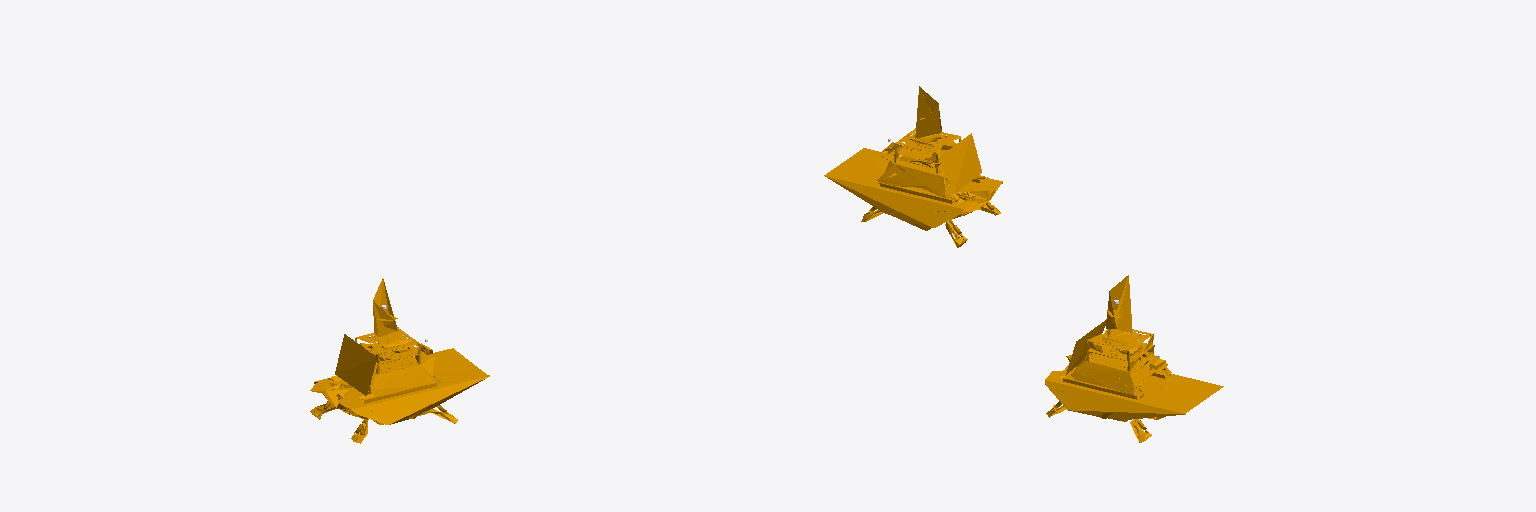
The robot description file, URDF, robot "scout_mini":
<?xml version="1.0" encoding="utf-8"?>
<!-- =================================================================================== -->
<!-- |    This document was autogenerated by xacro from mini.xacro                     | -->
<!-- |    EDITING THIS FILE BY HAND IS NOT RECOMMENDED                                 | -->
<!-- =================================================================================== -->
<robot name="scout_mini">
  <!--    <xacro:property name="track" value="0.3426" />
    <xacro:property name="wheelbase" value="0.3181"/>
    <xacro:property name="wheel_vertical_offset" value="-0.160000047342231" />-->
  <!-- Base link -->
  <link name="base_link">
    <visual>
      <origin rpy="1.57 0 -1.57" xyz="0 0 0.0"/>
      <geometry>
        <mesh filename="package://scout_description/meshes/scout_mini_base_link2.dae"/>
      </geometry>
    </visual>
    <collision>
      <origin rpy="1.57 0 -1.57" xyz="0 0 0"/>
      <geometry>
        <mesh filename="package://scout_description/meshes/scout_mini_base_link2.dae"/>
      </geometry>
    </collision>
  </link>
  <!-- <joint name="chassis_link_joint" type="fixed">
        <origin xyz="0 0 ${wheel_radius - wheel_vertical_offset}" rpy="0 0 0" />
        <parent link="base_link" />
        <child link="chassis_link" />
    </joint> -->
  <link name="inertial_link">
    <inertial>
      <mass value="60"/>
      <origin xyz="0.0 0.0 0.0"/>
      <inertia ixx="2.288641" ixy="0" ixz="0" iyy="5.103976" iyz="0" izz="3.431465"/>
    </inertial>
  </link>
  <joint name="inertial_joint" type="fixed">
    <origin rpy="0 0 0" xyz="0 0 0"/>
    <parent link="base_link"/>
    <child link="inertial_link"/>
  </joint>
  <!-- For testing, hang the robot up in the air -->
  <!-- <link name="world" />
    <joint name="world_to_base_link=" type="fixed">
        <origin xyz="0 0 0.5" rpy="0 0 0" />
        <parent link="world"/>
        <child link="base_link"/>
    </joint> -->
  <link name="front_left_wheel_link">

    <inertial>
      <mass value="3"/>
      <origin xyz="0 0 0"/>
      <inertia ixx="0.7171" ixy="0" ixz="0" iyy="0.7171" iyz="0" izz="0.1361"/>
      <!--<inertia ixx="0" ixy="0" ixz="0" iyy="0" iyz="0" izz="0" />-->
    </inertial>
    <visual>
      <origin rpy="0 0 0" xyz="0 0 0"/>
      <geometry>
        <mesh filename="package://scout_description/meshes/wheel.dae"/>
      </geometry>
    </visual>
    <collision>
      <origin rpy="0 0 0" xyz="0 0 0"/>
      <geometry>
        <mesh filename="package://scout_description/meshes/wheel.dae"/>
      </geometry>
    </collision>
  </link>
  <joint name="front_left_wheel" type="continuous">
    <!--<origin
                  xyz="0.14547 0.20835 -0.07424"
                  rpy="0 1.57 0" />-->
    <parent link="base_link"/>
    <child link="front_left_wheel_link"/>
    <origin rpy="-1.57 0 0" xyz="0.2319755 0.2082515 -0.100998"/>
    <axis rpy="0 0 0" xyz="0 0 -1"/>
  </joint>
  <link name="rear_left_wheel_link">

    <inertial>
      <mass value="3"/>
      <origin xyz="0 0 0"/>
      <inertia ixx="0.7171" ixy="0" ixz="0" iyy="0.7171" iyz="0" izz="0.1361"/>
      <!--<inertia ixx="0" ixy="0" ixz="0" iyy="0" iyz="0" izz="0" />-->
    </inertial>
    <visual>
      <origin rpy="0 0 0" xyz="0 0 0"/>
      <geometry>
        <mesh filename="package://scout_description/meshes/wheel.dae"/>
      </geometry>
    </visual>
    <collision>
      <origin rpy="0 0 0" xyz="0 0 0"/>
      <geometry>
        <mesh filename="package://scout_description/meshes/wheel.dae"/>
      </geometry>
    </collision>
  </link>
  <joint name="rear_left_wheel" type="continuous">
    <!--<origin
                  xyz="-0.17453 0.20835 -0.07424"
                  rpy="0 -1.57 0" />-->
    <parent link="base_link"/>
    <child link="rear_left_wheel_link"/>
    <origin rpy="-1.57 0 0" xyz="-0.2319755 0.2082515 -0.100998"/>
    <axis rpy="0 0 0" xyz="0 0 -1"/>
  </joint>
  <link name="front_right_wheel_link">

    <inertial>
      <mass value="3"/>
      <origin xyz="0 0 0"/>
      <inertia ixx="0.7171" ixy="0" ixz="0" iyy="0.7171" iyz="0" izz="0.1361"/>
      <!--<inertia ixx="0" ixy="0" ixz="0" iyy="0" iyz="0" izz="0" />-->
    </inertial>
    <visual>
      <origin rpy="0 0 0" xyz="0 0 0"/>
      <geometry>
        <mesh filename="package://scout_description/meshes/wheel.dae"/>
      </geometry>
    </visual>
    <collision>
      <origin rpy="0 0 0" xyz="0 0 0"/>
      <geometry>
        <mesh filename="package://scout_description/meshes/wheel.dae"/>
      </geometry>
    </collision>
  </link>
  <joint name="front_right_wheel" type="continuous">
    <!--<origin
                  xyz="-0.17453 -0.24424 -0.07424"
                  rpy="0 -1.57 0" />-->
    <parent link="base_link"/>
    <child link="front_right_wheel_link"/>
    <origin rpy="1.57 0 0" xyz="0.2319755 -0.2082515 -0.099998"/>
    <axis rpy="0 0 0" xyz="0 0 -1"/>
  </joint>
  <link name="rear_right_wheel_link">
    <!--<inertial>
        <mass value="3" />
            <origin
                    xyz="0.235244832119832 -0.0585653794466942 -0.206994929144493"
                    rpy="0 0 0" />
                    <inertia ixx="0.7171" ixy="0" ixz="0" iyy="0.1361" iyz="0" izz="0.7171" />
        </inertial>
        <visual>
            <origin xyz="0 0 0" rpy="0 0 0" />
            <geometry>
                <mesh filename="package://scout_description/meshes/wheel.dae" />
            </geometry>
        </visual>-->
    <inertial>
      <mass value="3"/>
      <origin xyz="0 0 0"/>
      <inertia ixx="0.7171" ixy="0" ixz="0" iyy="0.7171" iyz="0" izz="0.1361"/>
      <!--<inertia ixx="0" ixy="0" ixz="0" iyy="0" iyz="0" izz="0" />-->
    </inertial>
    <visual>
      <origin rpy="0 0 0" xyz="0 0 0"/>
      <geometry>
        <mesh filename="package://scout_description/meshes/wheel.dae"/>
      </geometry>
    </visual>
    <collision>
      <origin rpy="0 0 0" xyz="0 0 0"/>
      <geometry>
        <mesh filename="package://scout_description/meshes/wheel.dae"/>
      </geometry>
    </collision>
  </link>
  <joint name="rear_right_wheel" type="continuous">
    <!--<origin
                  xyz="0.19247 -0.24486 -0.073441"
                  rpy="-0 1.57 0" />-->
    <parent link="base_link"/>
    <child link="rear_right_wheel_link"/>
    <origin rpy="1.57 0 0" xyz="-0.2319755 -0.2082515 -0.099998"/>
    <axis rpy="0 0 0" xyz="0 0 -1"/>
  </joint>

  <!-- This file is a placeholder which is included by default from
       husky.urdf.xacro. If a robot is being customized and requires
       additional URDF, set the HUSKY_URDF_EXTRAS environment variable
       to the full path of the file you would like included. -->
  <!-- Additional definitions for simulation -->
  <!-- <gazebo reference="base_link">
        <material>Gazebo/Grey</material>
    </gazebo> -->
  <transmission name="front_right_wheel_trans" type="SimpleTransmission">
    <type>transmission_interface/SimpleTransmission</type>
    <actuator name="front_right_wheel_motor">
      <mechanicalReduction>1</mechanicalReduction>
    </actuator>
    <joint name="front_right_wheel">
      <hardwareInterface>hardware_interface/VelocityJointInterface</hardwareInterface>
    </joint>
  </transmission>
  <transmission name="front_left_wheel_trans" type="SimpleTransmission">
    <type>transmission_interface/SimpleTransmission</type>
    <actuator name="front_left_wheel_motor">
      <mechanicalReduction>1</mechanicalReduction>
    </actuator>
    <joint name="front_left_wheel">
      <hardwareInterface>hardware_interface/VelocityJointInterface</hardwareInterface>
    </joint>
  </transmission>
  <transmission name="rear_left_wheel_trans" type="SimpleTransmission">
    <type>transmission_interface/SimpleTransmission</type>
    <actuator name="rear_left_wheel_motor">
      <mechanicalReduction>1</mechanicalReduction>
    </actuator>
    <joint name="rear_left_wheel">
      <hardwareInterface>hardware_interface/VelocityJointInterface</hardwareInterface>
    </joint>
  </transmission>
  <transmission name="rear_right_wheel_trans" type="SimpleTransmission">
    <type>transmission_interface/SimpleTransmission</type>
    <actuator name="rear_right_wheel_motor">
      <mechanicalReduction>1</mechanicalReduction>
    </actuator>
    <joint name="rear_right_wheel">
      <hardwareInterface>hardware_interface/VelocityJointInterface</hardwareInterface>
    </joint>
  </transmission>
  <!-- Controller configurations -->
  <gazebo>
    <plugin filename="libgazebo_ros_control.so" name="gazebo_ros_control">
      <robotNamespace>/</robotNamespace>
    </plugin>
  </gazebo>
  <!-- kp spring constant, kd damping constant -->
  <gazebo>
    <mu1 value="1.0"/>
    <mu2 value="0.35"/>
    <slip1 value="0.0"/>
    <slip2 value="0.1"/>
    <kp value="1000000.0"/>
    <kd value="1.0"/>
    <fdir1 value="1 0 0"/>
    <minDepth value="0.001"/>
    <maxContacts value="16"/>
  </gazebo>



 <link name="laser_link">
        <inertial>
            <origin
                xyz="0.0 0.0 0.0"
                rpy="0 0 0" />
            <mass
                value="0.1" />
            <inertia
                ixx="0.0088463"
                ixy="2.0356E-05"
                ixz="-0.00047464"
                iyy="0.0066478"
                iyz="-6.9288E-06"
                izz="0.01219" />
        </inertial>
        <visual>
            <origin
                    xyz="0.0 0.0 0.0"
                    rpy="0.0 0.0 0.0" />
            <geometry>
                    <cylinder radius="0.01" length="0.01"/>
            </geometry>
            <material name = "red">
            <color rgba="1 1 1 1" />
            </material>
        </visual>
        <collision>
            <origin
                    xyz="0 0 0.31"
                    rpy="0 0 0" />
          <geometry>
                    <cylinder radius="0.06" length="0.1"/>
          </geometry>
        </collision>
    </link>

    <joint name="laser_joint" type="fixed">
        <origin xyz="0 0 0.4" rpy="0 0 0" />
        <parent link="base_link" />
        <child link="laser_link" />
    </joint>

 <link name="camera_link">
        <inertial>
            <origin
                xyz="0.0 0.0 0.0"
                rpy="0 0 0" />
            <mass
                value="0.1" />
            <inertia
                ixx="0.0088463"
                ixy="2.0356E-05"
                ixz="-0.00047464"
                iyy="0.0066478"
                iyz="-6.9288E-06"
                izz="0.01219" />
        </inertial>
        <visual>
            <origin
                    xyz="0.0 0.0 0.0"
                    rpy="0.0 0.0 0.0" />
            <geometry>
                    <box size="0.01 0.01 0.01"/>
            </geometry>
            <material name = "red">
            <color rgba="1 1 1 1" />
            </material>
        </visual>
        <collision>
            <origin
                    xyz="0 0 0.31"
                    rpy="0 0 0" />
          <geometry>
                    <box size="0.01 0.01 0.01"/>
          </geometry>
        </collision>
    </link>

    <joint name="camera_joint" type="fixed">
        <origin xyz="0.2 0 0.2" rpy="0 0 0" />
        <parent link="base_link" />
        <child link="camera_link" />
    </joint>


  <!-- <gazebo>
        <plugin name="skid_steer_drive_controller" filename="libgazebo_ros_skid_steer_drive.so">
            <updateRate>100.0</updateRate>
            <robotNamespace></robotNamespace>
            <leftFrontJoint>front_left_wheel</leftFrontJoint>
            <rightFrontJoint>front_right_wheel</rightFrontJoint>
            <leftRearJoint>rear_left_wheel</leftRearJoint>
            <rightRearJoint>rear_right_wheel</rightRearJoint>
            <wheelSeparation>4</wheelSeparation>
            <wheelDiameter>0.32918</wheelDiameter>
            <robotBaseFrame>base_link</robotBaseFrame>
            <torque>1000</torque>
            <commandTopic>cmd_vel</commandTopic>
            <broadcastTF>true</broadcastTF>
            <odometryTopic>odom</odometryTopic>
            <odometryFrame>odom</odometryFrame>
            <covariance_x>0.000100</covariance_x>
            <covariance_y>0.000100</covariance_y>
            <covariance_yaw>0.010000</covariance_yaw>
        </plugin>
    </gazebo> -->
  <!-- <gazebo>
        <plugin name="object_controller" filename="libgazebo_ros_planar_move.so">
            <commandTopic>cmd_vel</commandTopic>
            <odometryTopic>odom</odometryTopic>
            <odometryFrame>odom</odometryFrame>
            <odometryRate>20.0</odometryRate>
            <robotBaseFrame>base_footprint</robotBaseFrame>
        </plugin>
    </gazebo> -->

  <!-- Payload box. The visualiser has always published base_link -> box_link and
       drawn this mesh itself; describing it here instead lets the one URDF be the
       whole robot, so a viewer that loads the description needs nothing else. The
       joint carries the yaw the visualiser applied to the frame, and the visual
       carries the yaw it applied to the mesh; the two compose to the same pose the
       scene used to send in world coordinates. -->
  <link name="box_link">
    <visual>
      <origin xyz="0 0 0" rpy="0 0 3.14"/>
      <geometry>
        <mesh filename="package://scout_description/meshes/box_link.STL"/>
      </geometry>
    </visual>
  </link>
  <joint name="box_joint" type="fixed">
    <origin xyz="0 0 0.055" rpy="0 0 3.14"/>
    <parent link="base_link"/>
    <child link="box_link"/>
  </joint>
</robot>

--- Render facts (derived) ---
The picture shows the robot from 3 angles, left to right: view 1: azimuth 30°, elevation 25°; view 2: azimuth 150°, elevation 25°; view 3: azimuth 330°, elevation 25°; orthographic projection.
Robot: scout_mini — 9 links, 8 joints (4 continuous, 4 fixed); root link base_link; default pose: every joint at zero.
Links seen in each view (by area): view 1: base_link, box_link; view 2: base_link, box_link; view 3: base_link, box_link.
Boxes of the visible links, bbox=[...] form: base_link: bbox=[310, 348, 489, 443]; box_link: bbox=[335, 278, 434, 395]; base_link: bbox=[824, 148, 1002, 247]; box_link: bbox=[876, 86, 981, 198]; base_link: bbox=[1045, 355, 1223, 442]; box_link: bbox=[1066, 275, 1171, 394].
Bounding box of the posed robot: 0.7198 × 3.36 × 0.6211 m (x, y, z).
2 mesh visuals loaded from 3 distinct referenced files (1 binary STL, 1 Collada DAE); not drawn: 4 (reference not matched to a file when rendering).
